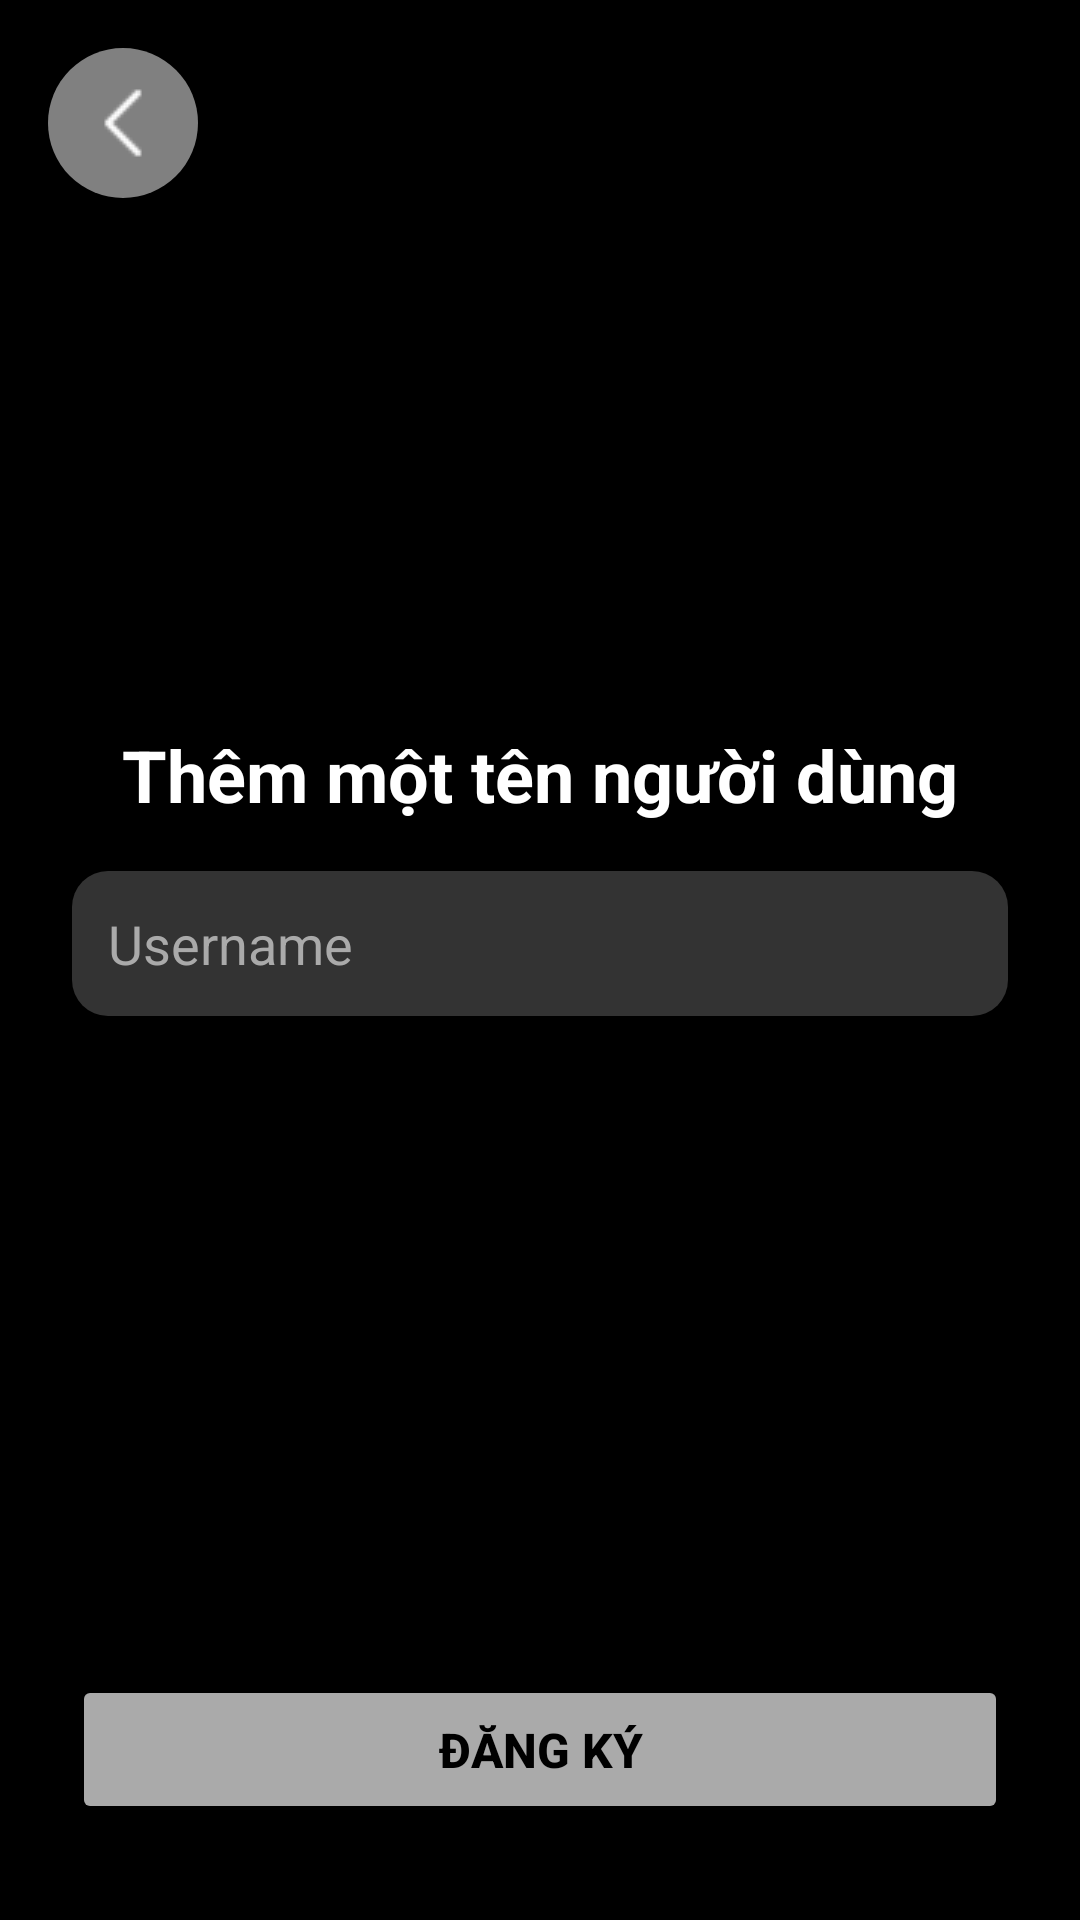

Icons on this 1080px×1920px Android screen, each with the point to tap as point (x, y):
Trờ về: point (123, 123)
